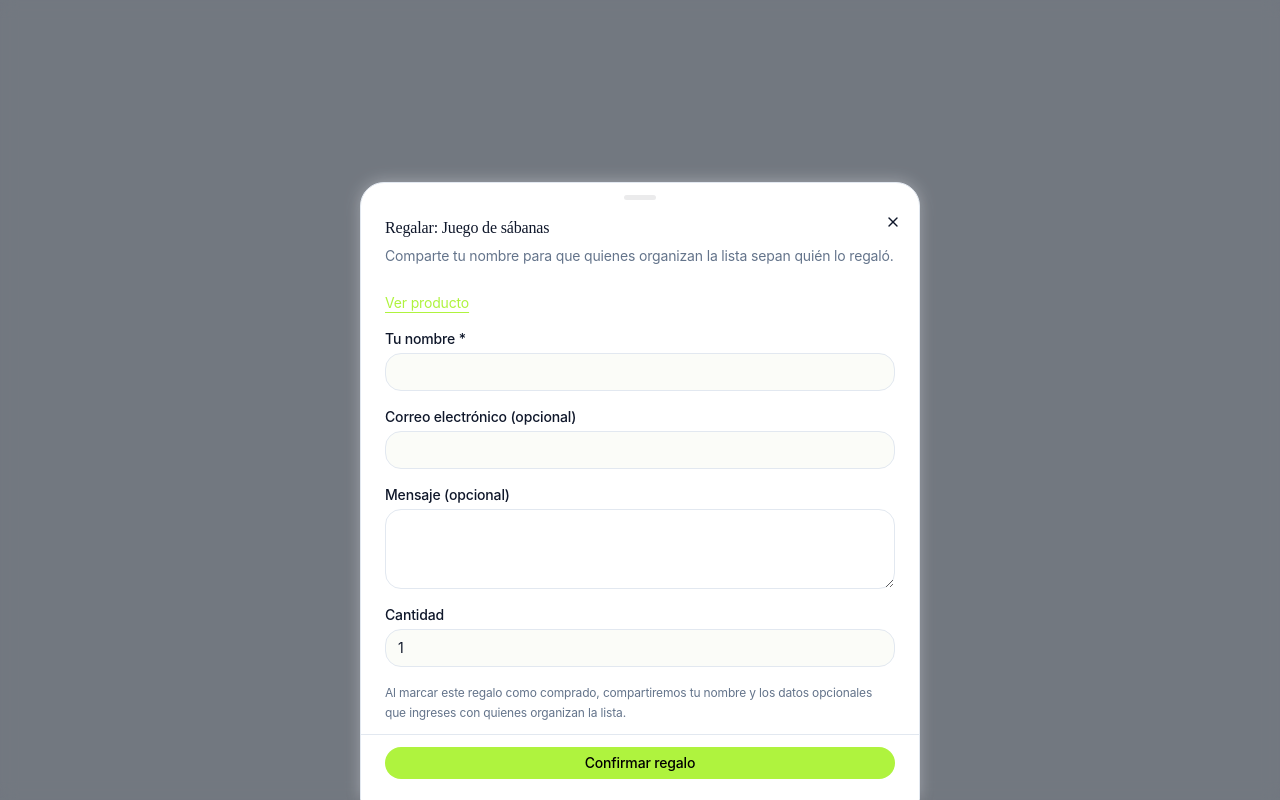
Test case: GuestGiftDrawer › keeps loading, inline validation, and retryable errors inside the purchase view
Click the button "Confirmar regalo" at (640, 763), box [385, 747, 895, 779]
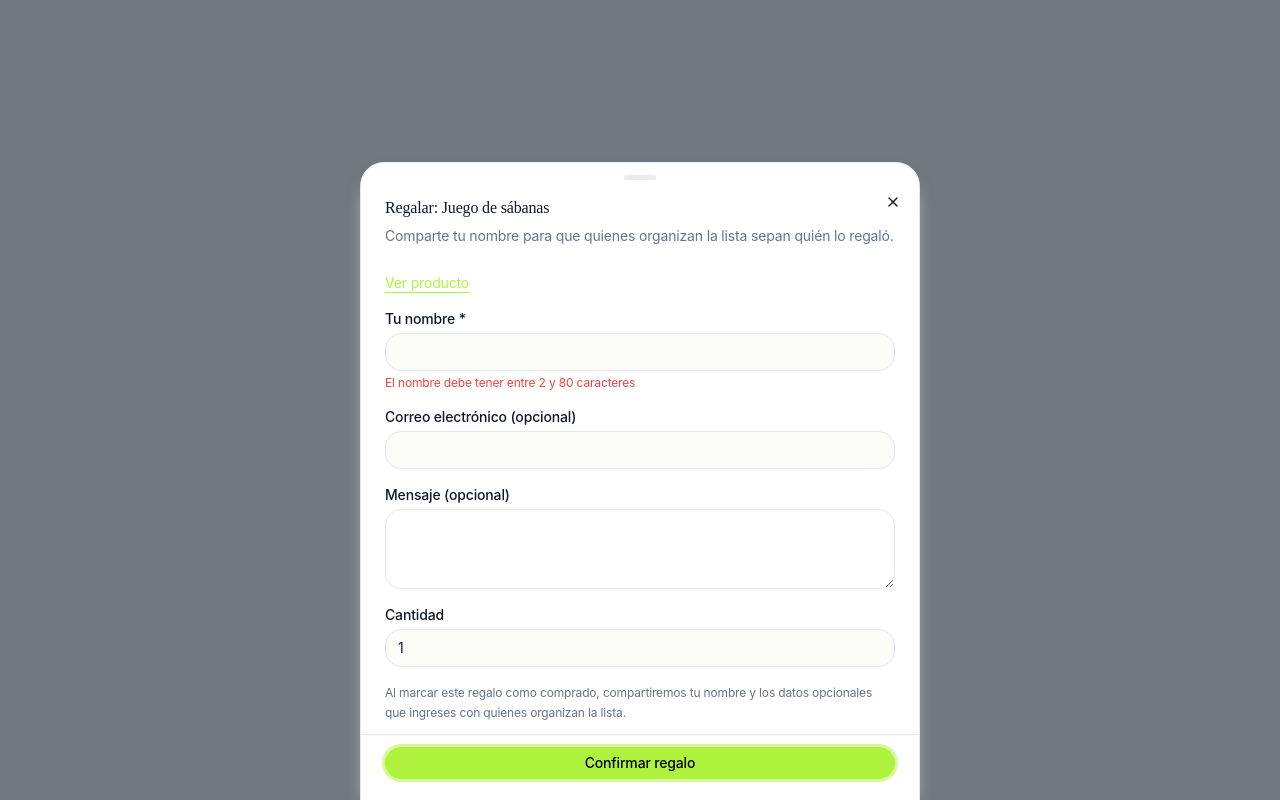
Expected: the text "El nombre debe tener entre 2 y 80 caracteres" is shown, [385, 375, 635, 390]
